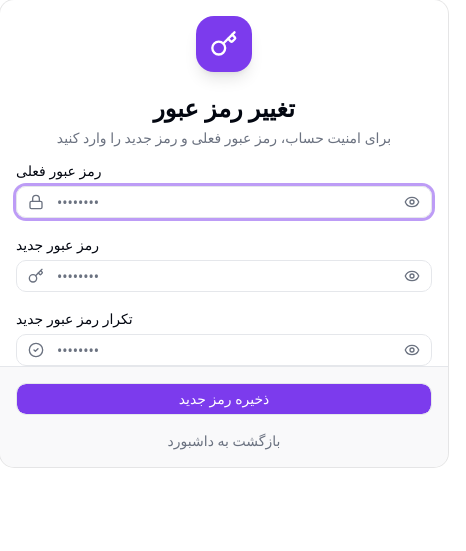
Scenario: SettingsPasswordForm › shows translated error when backend rejects same password
In the password field labelled "رمز عبور فعلی": {"x": 224, "y": 202} x1=16 y1=186 x2=432 y2=218, type "OldPass123!"
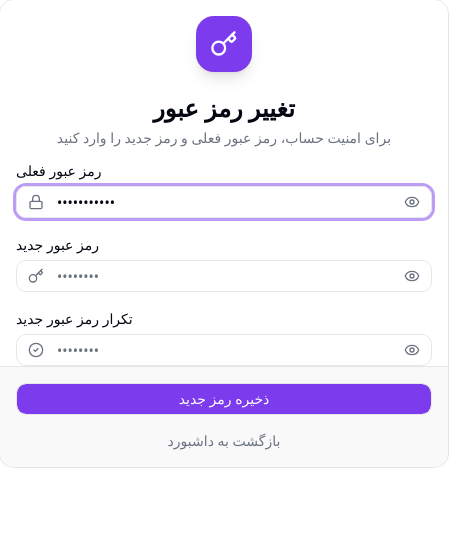
In the password field labelled "رمز عبور جدید": {"x": 224, "y": 276} x1=16 y1=260 x2=432 y2=292, type "NewPass123!"
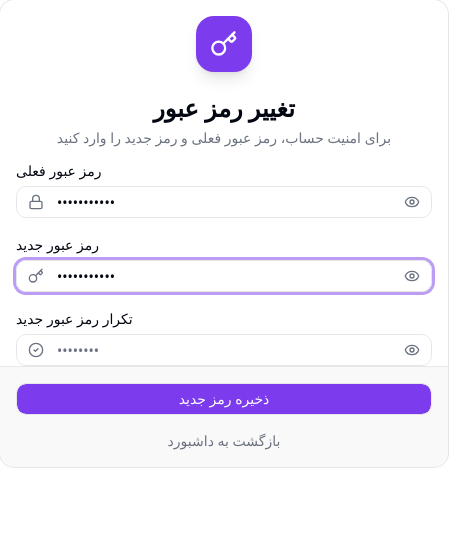
In the password field labelled "تکرار رمز عبور جدید": {"x": 224, "y": 350} x1=16 y1=334 x2=432 y2=366, type "NewPass123!"
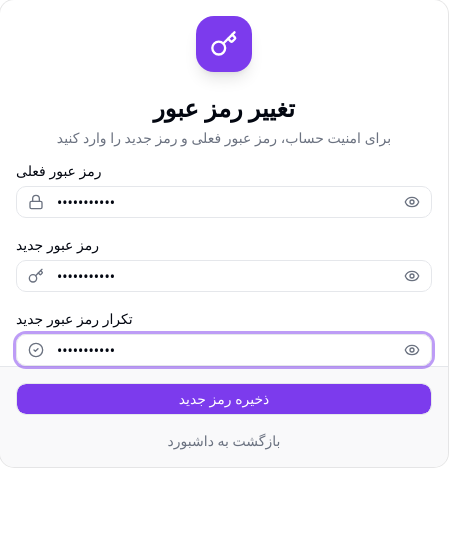
Click the button "ذخیره رمز جدید": {"x": 224, "y": 399} x1=16 y1=383 x2=432 y2=415
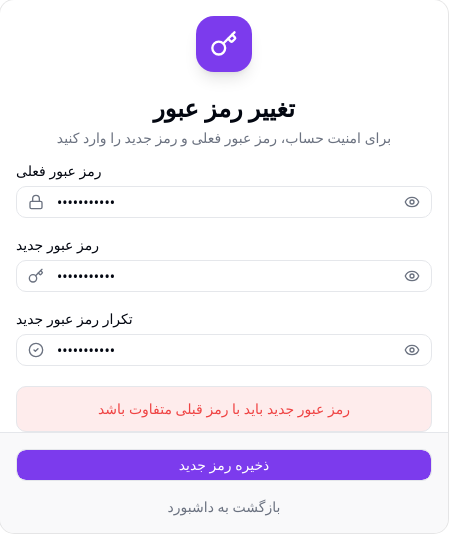
Result: the text "رمز عبور جدید باید با رمز قبلی متفاوت باشد" is shown at x1=98 y1=399 x2=350 y2=418
